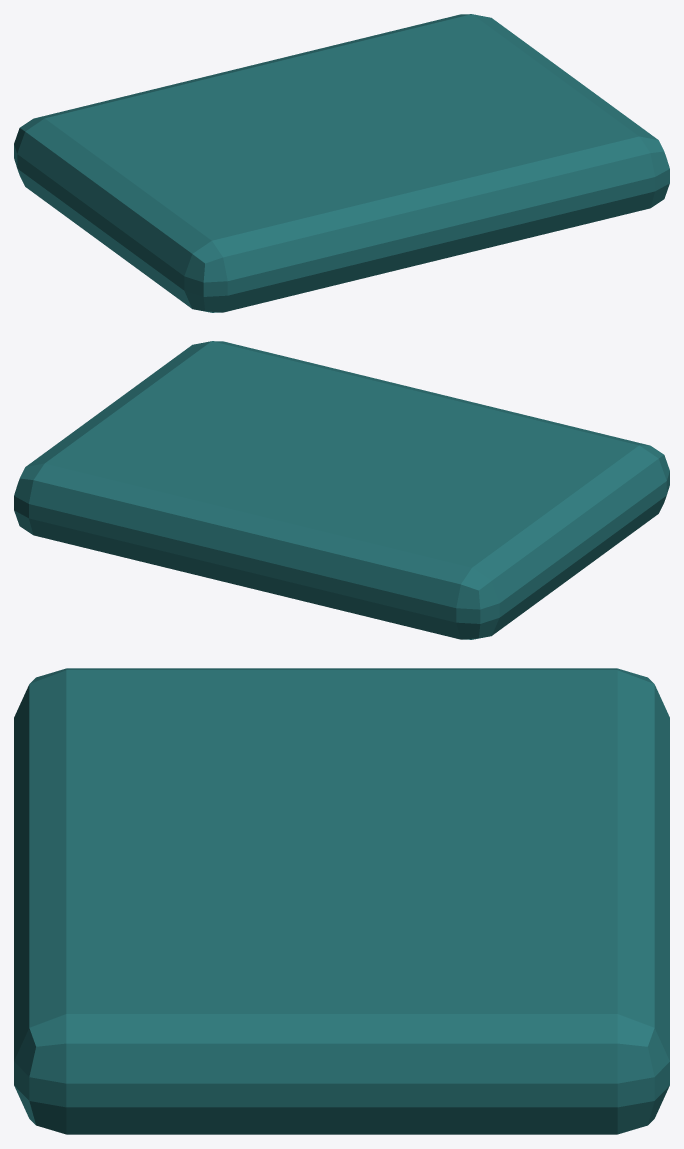
File: cleaning_cloth.glb
The picture shows the model from 3 angles, top to bottom: view 1: azimuth 30°, elevation 25°; view 2: azimuth 150°, elevation 25°; view 3: azimuth 270°, elevation 25°; orthographic projection. The views are drawn at different scales.
Visible parts, largest first — view 1: cleaning_cloth; view 2: cleaning_cloth; view 3: cleaning_cloth.
Part boxes in pixels (x1=…): cleaning_cloth: x1=14, y1=14, x2=669, y2=312; cleaning_cloth: x1=14, y1=341, x2=669, y2=639; cleaning_cloth: x1=14, y1=668, x2=669, y2=1134.
Bounding box in the file's own units: 0.28 × 0.04 × 0.2.
